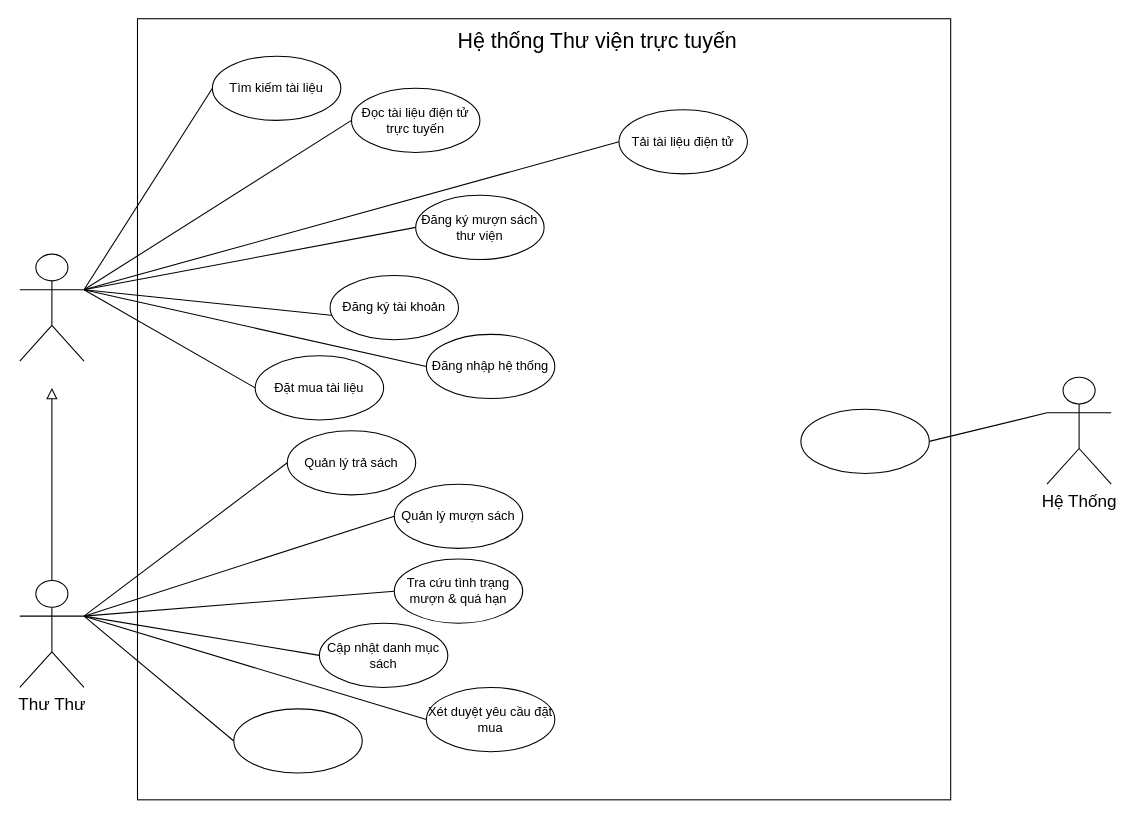
The diagram is 1135 pixels wide and 819 high, and some of its shapes have lost their labels. The shapes that lost their labels are listed below. From the top down, each one's centre as x and y in pixels, then its label:
point 51,307: Độc Giả
point 864,440: Gửi email nhắc hạn trả sách
point 297,740: Tạo báo cáo, thống kê
